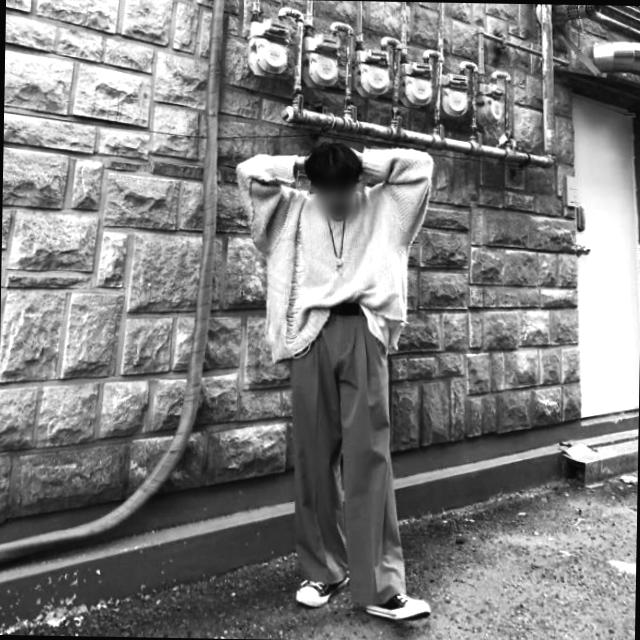slacks: (284, 300, 411, 602)
sweater: (244, 146, 430, 372)
